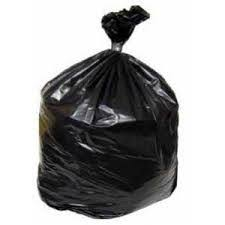Trash: (26, 5, 189, 219)
